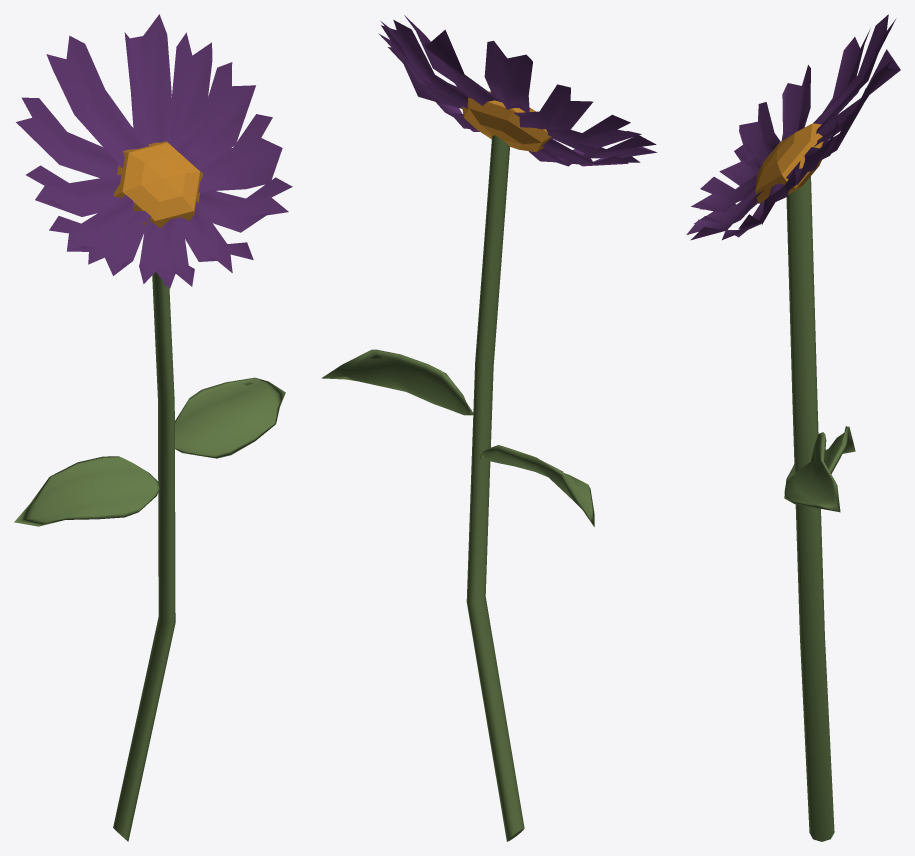
The model's file is dpurple.fbx.
The picture shows the model from 3 angles, left to right: view 1: azimuth 30°, elevation 25°; view 2: azimuth 150°, elevation 25°; view 3: azimuth 270°, elevation 25°; orthographic projection. The views are drawn at different scales.
Parts seen in each view (by area): view 1: sweep4; view 2: sweep4; view 3: sweep4.
Part boxes in pixels (left/top/right/bottom): sweep4: left=14, top=14, right=292, bottom=841; sweep4: left=321, top=15, right=657, bottom=841; sweep4: left=686, top=14, right=900, bottom=841.
Bounding box in the file's own units: 1.13 × 3.07 × 0.732.
